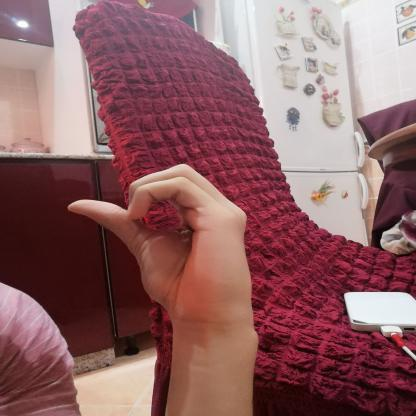WAW: (53, 156, 268, 336)
